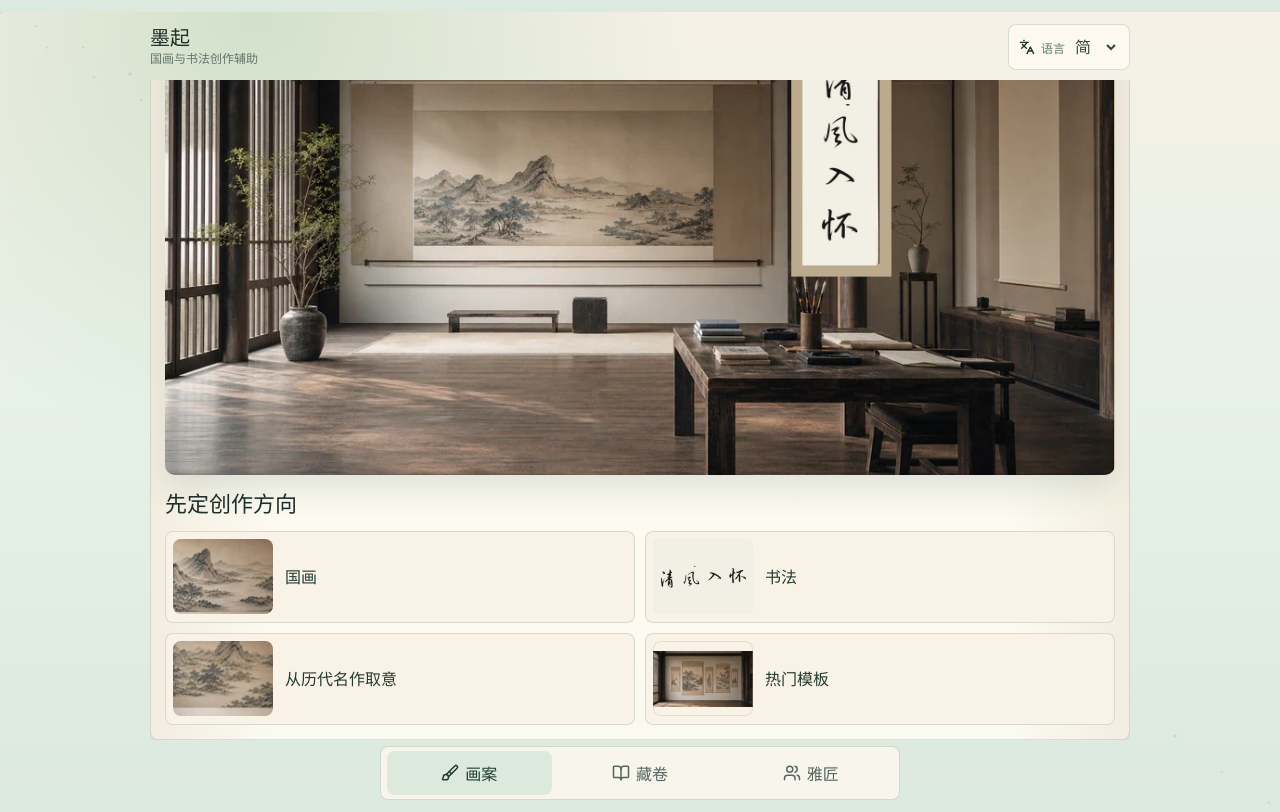
Test case: App › writes question answers to the studio draft before the next render cycle
(page scrolled)
Click the button "国画" at point(223, 577), box [165,531,635,623]
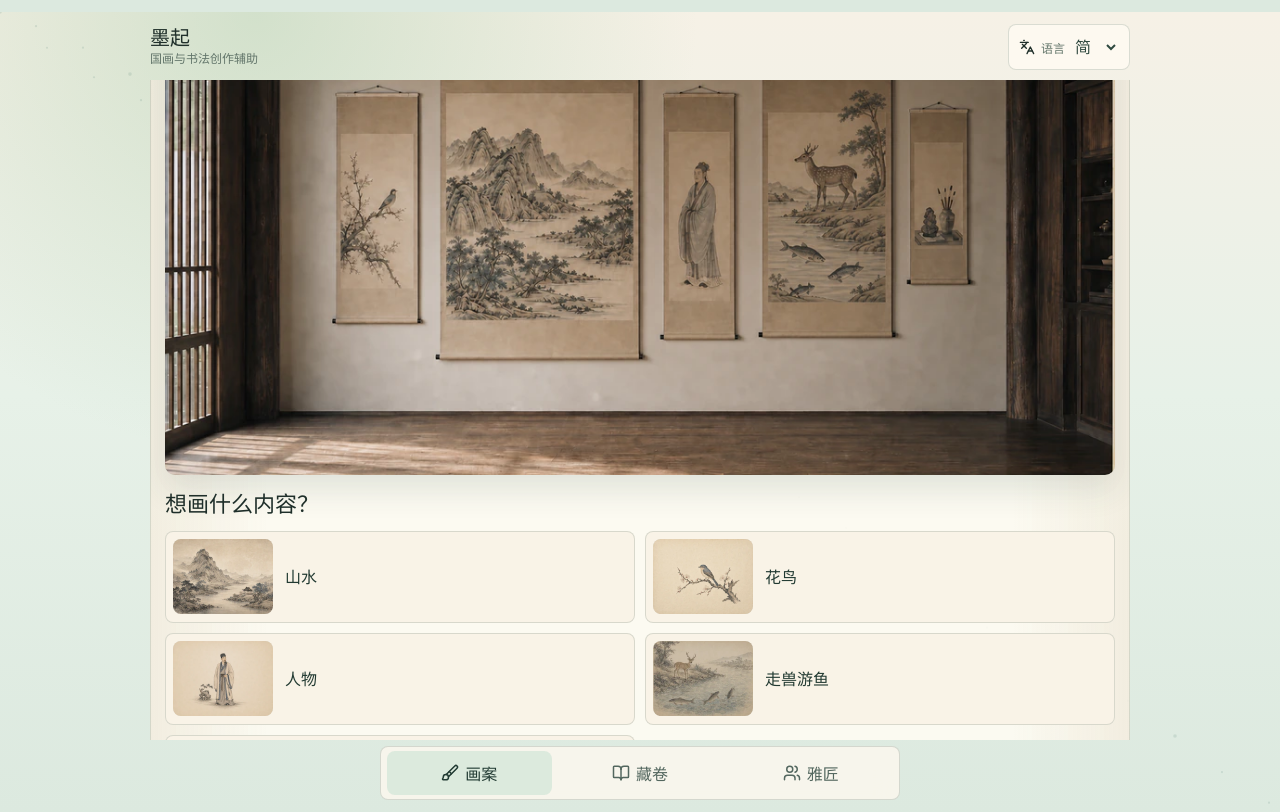
Click the button "山水" at point(223, 577), box [165,531,635,623]
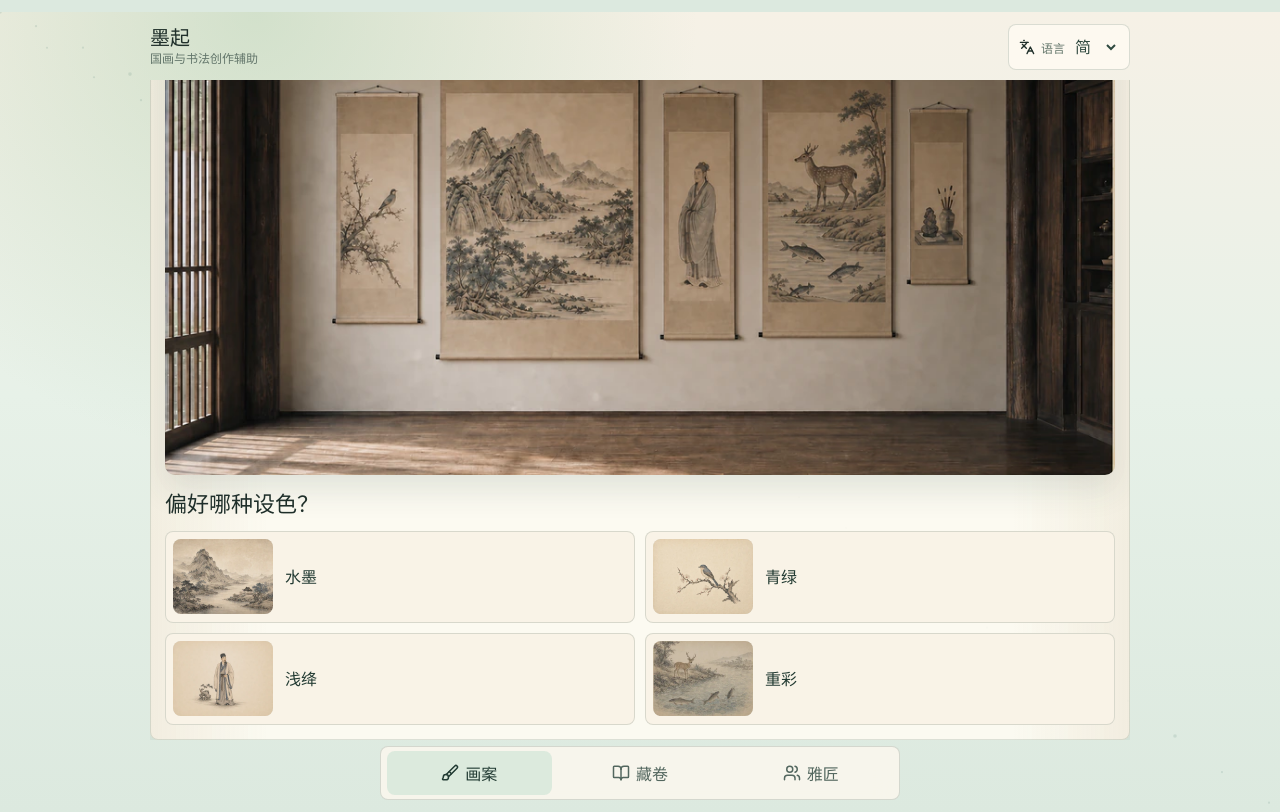
Result: the heading "偏好哪种设色？" is shown at [165,491,319,517]
